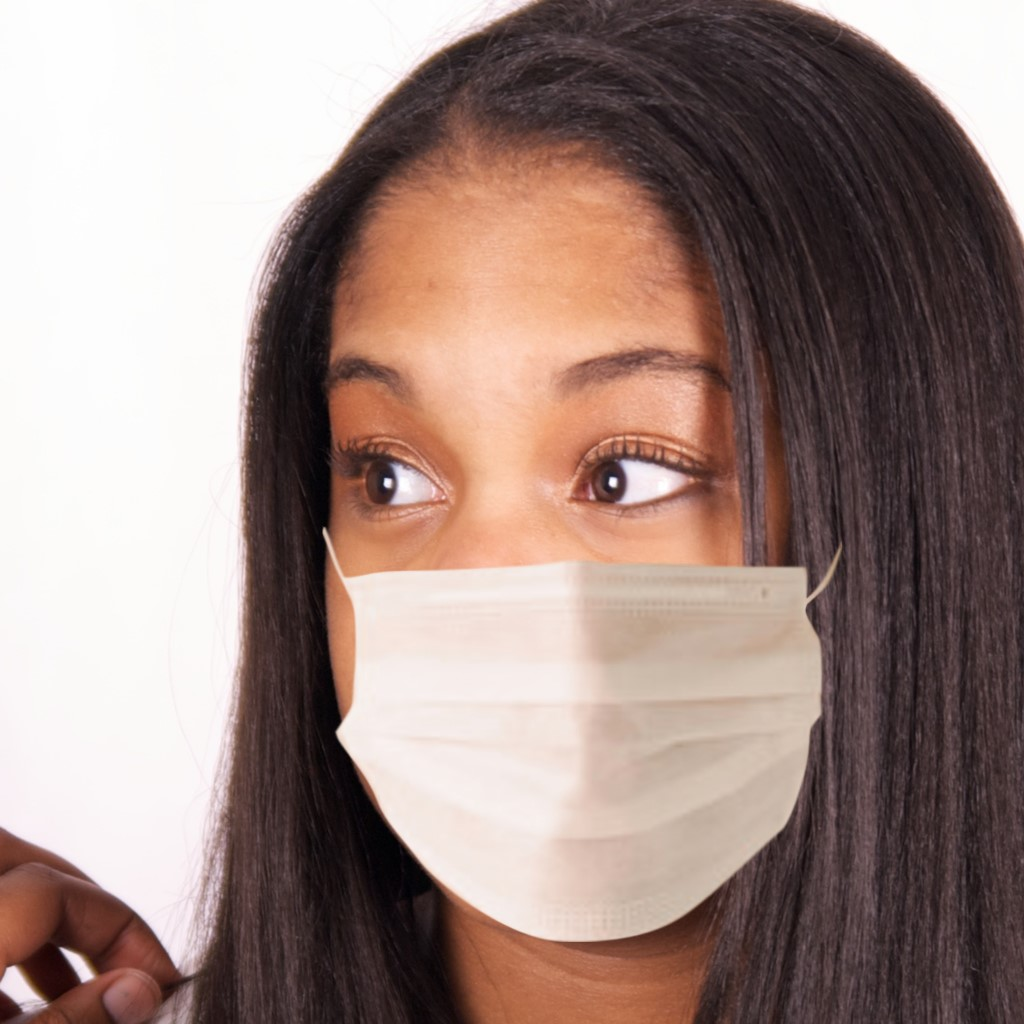con_mascara: (325, 194, 817, 922)
